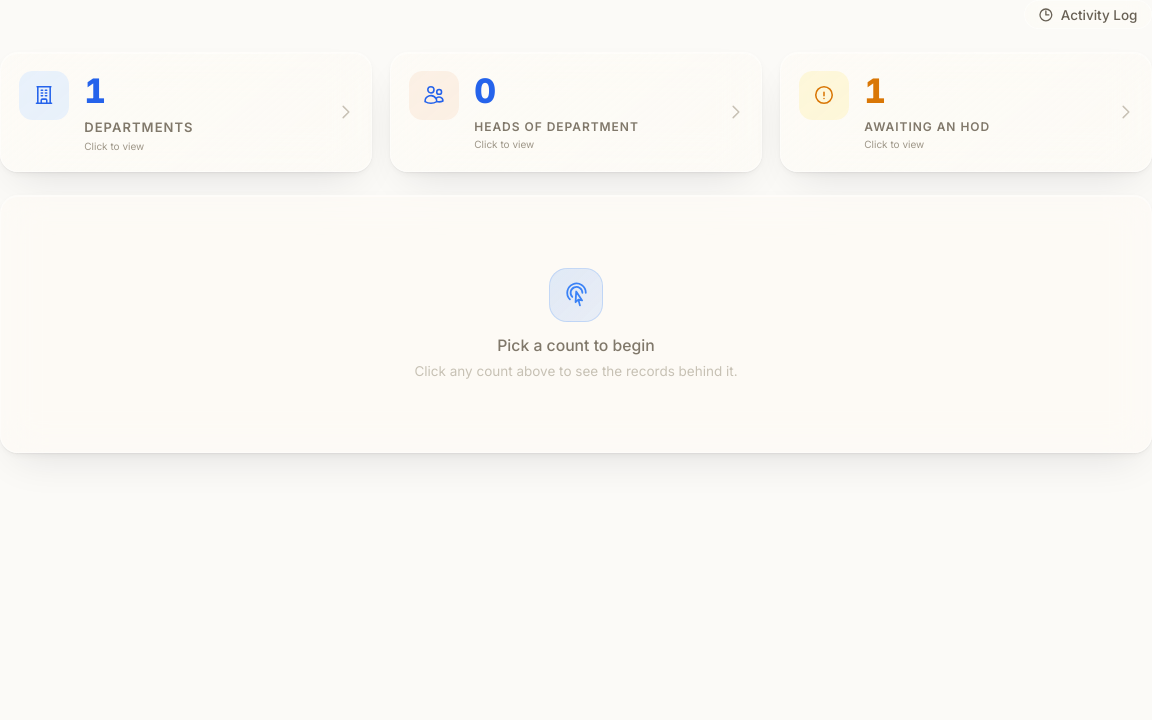
AdminPanel â€” edit department › opens an inline edit form prefilled with the current values
This screenshot has width=1152, height=720.
Step 1. Click the button "1 Departments Click to view" → (44, 95), box x1=0 y1=52 x2=372 y2=172
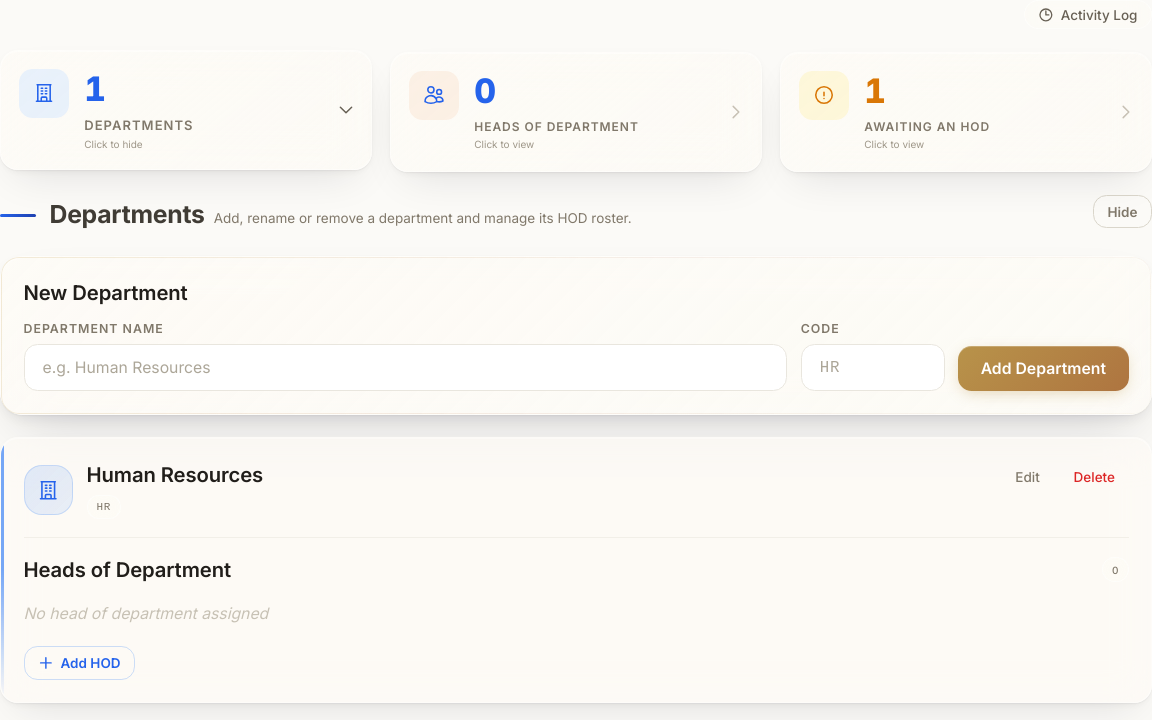
Step 2. Click the button with aria-label "edit human resources" → (1028, 477), box x1=1002 y1=461 x2=1053 y2=492
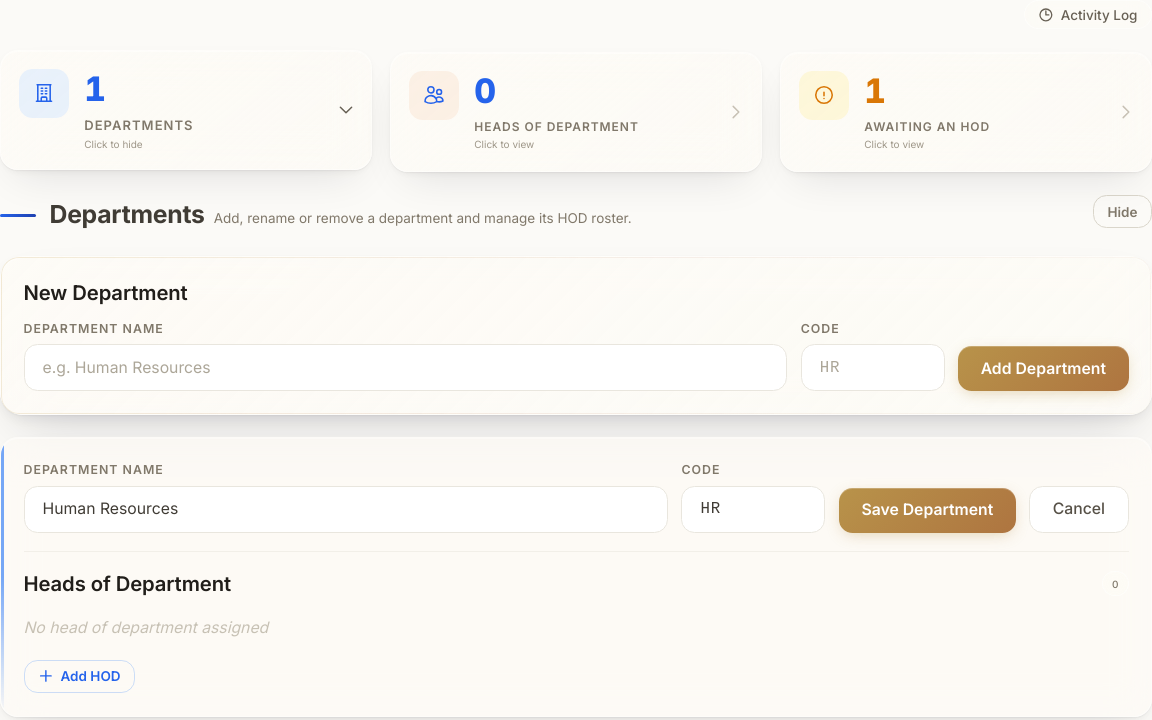
Check: the 2nd field showing "Human Resources" is shown, box x1=24 y1=486 x2=668 y2=532
Check: the 2nd field showing "HR" is shown, box x1=682 y1=486 x2=826 y2=532
